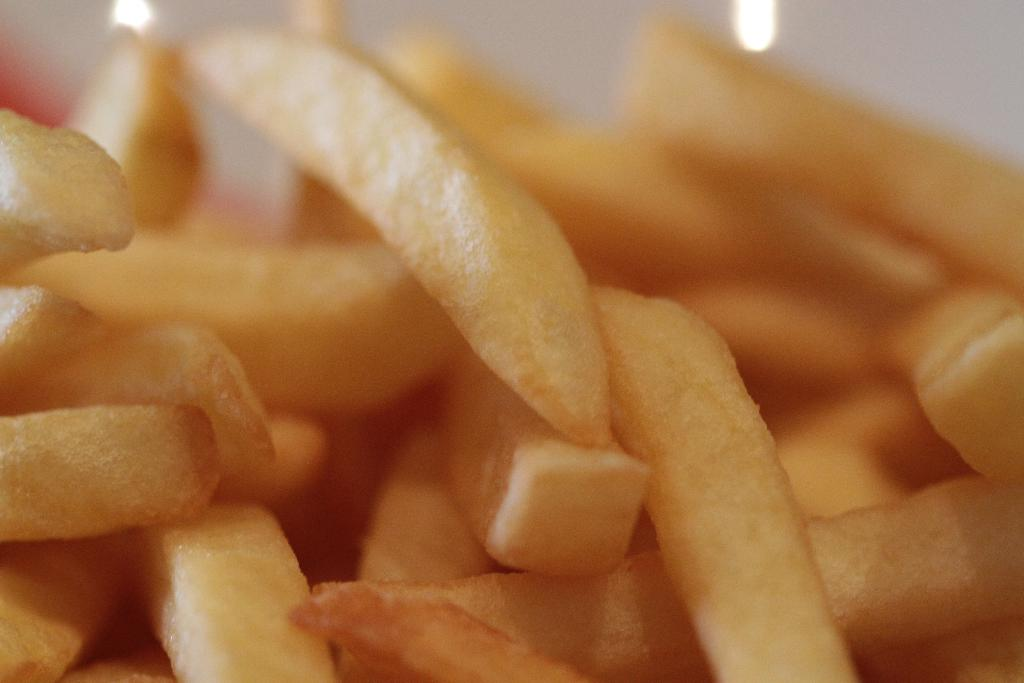French fries: (0, 0, 967, 669)
